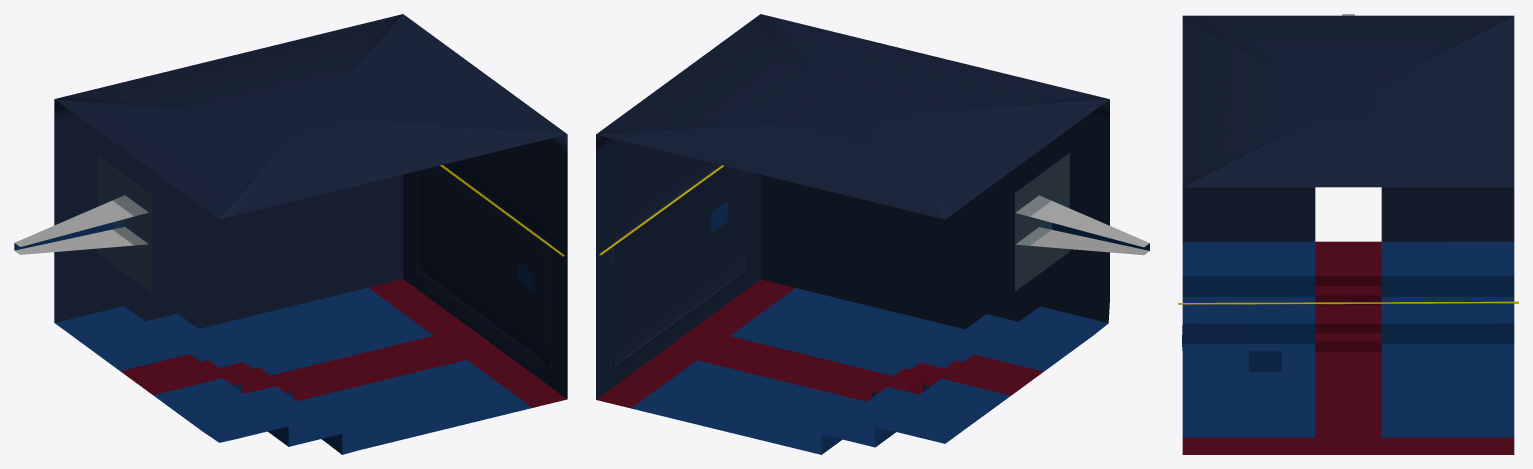
The model's file is Cinema2.fbx.
3 views of the same model, side by side, from view 1: azimuth 30°, elevation 25°; view 2: azimuth 150°, elevation 25°; view 3: azimuth 270°, elevation 25° (orthographic).
Visible parts, largest first — view 1: pPlane4; view 2: pPlane4; view 3: pPlane4.
Boxes of the visible parts, bbox=[...] form: pPlane4: bbox=[14, 14, 567, 454]; pPlane4: bbox=[596, 14, 1149, 454]; pPlane4: bbox=[1178, 14, 1518, 454].
Bounding box in the file's own units: 490 × 265 × 306.
